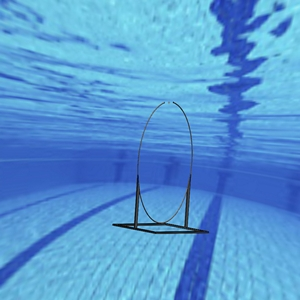circle: (112, 100, 211, 237)
